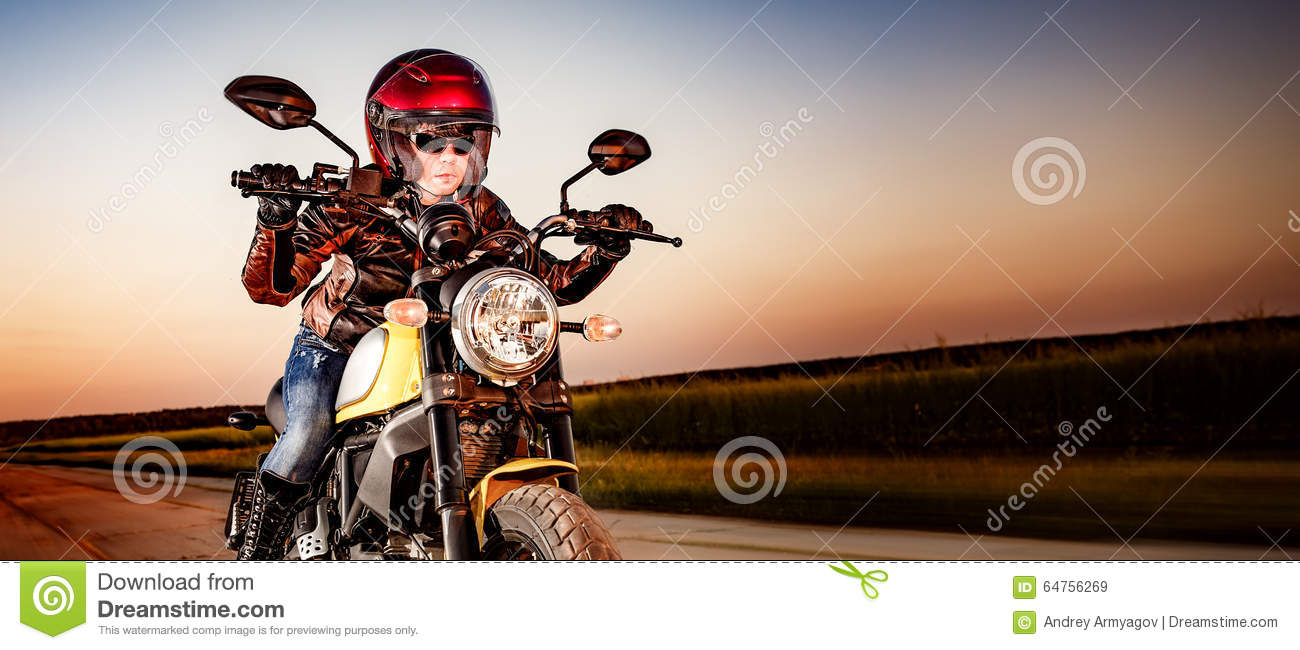helmet: (358, 32, 510, 178)
